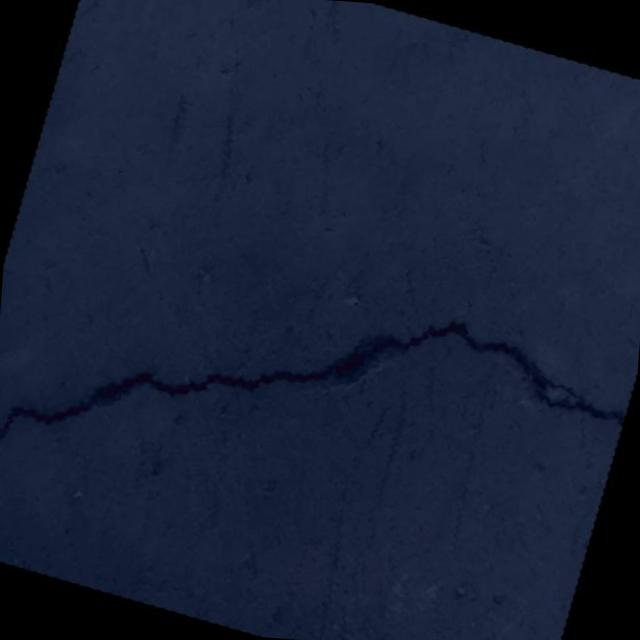crack: (0, 193, 640, 626)
